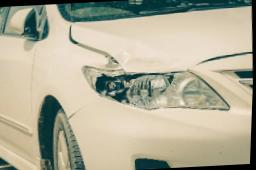Bonnet: (66, 10, 255, 80)
Light: (80, 59, 234, 120)
